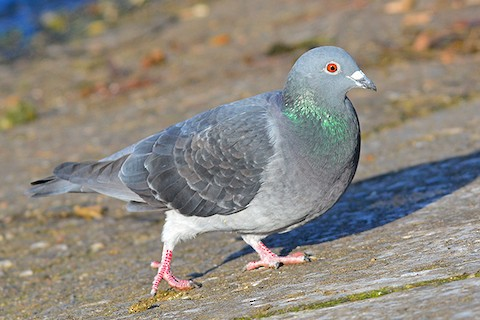pigeon: (28, 43, 385, 299)
